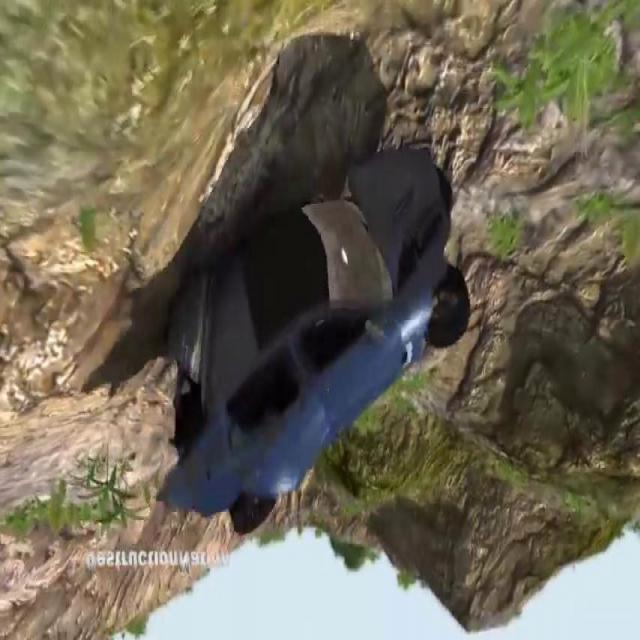severe: (148, 136, 474, 544)
